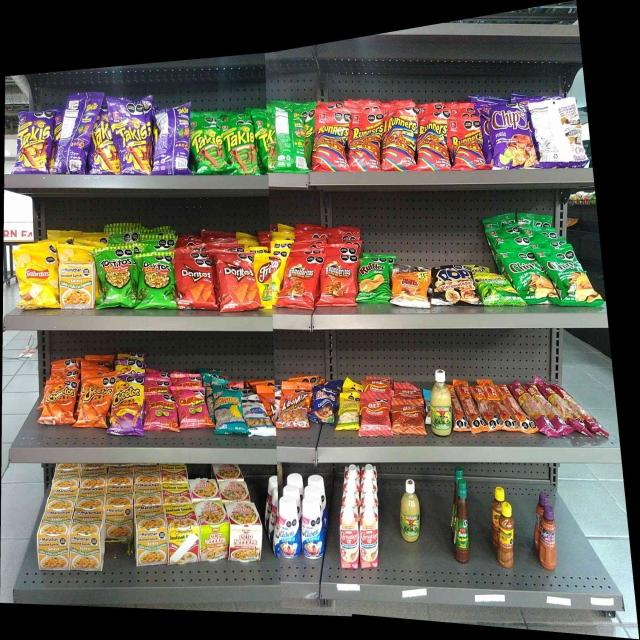bitzEnchilado90: (361, 392, 391, 437), (393, 399, 424, 434)
bitzEnchilado95: (453, 379, 509, 431)
bitzHabanero: (534, 383, 596, 438)
bokadosCacahuates: (312, 384, 336, 424)
botaneraChilito: (498, 503, 514, 568)
cheetosFlaminHot: (112, 378, 143, 434)
cheetosOriginal: (78, 379, 110, 426), (45, 381, 77, 423)
chipsFuego: (488, 107, 536, 170)
chipsJalapeno: (548, 252, 598, 308), (516, 251, 546, 305)
chipsPapatinas: (481, 273, 515, 306)
churrumais: (145, 392, 177, 431), (180, 388, 208, 426)
delPrimoSalsa: (430, 369, 451, 436), (399, 479, 419, 542)
doritosNacho: (175, 258, 215, 310), (216, 252, 253, 308)
fritosLimon: (254, 253, 283, 309)
hotNutsOriginal: (392, 264, 429, 308)
leoCacahuates: (244, 397, 271, 437)
leoMix: (281, 382, 308, 430)
maruchanPollo: (70, 508, 104, 570), (37, 508, 69, 570), (136, 506, 166, 565), (60, 264, 94, 309), (108, 485, 132, 542)
maruchanRes: (167, 505, 198, 562)
nestleCarnation: (359, 506, 378, 568), (341, 506, 358, 570)
nestleLechera: (278, 498, 301, 556), (302, 499, 324, 558)
nissinCamaron: (201, 502, 228, 558)
nissinRes: (230, 501, 261, 561)
popKarameladas: (432, 267, 478, 306)
productoAtras: (537, 102, 585, 170), (56, 92, 90, 172), (153, 110, 189, 173), (277, 108, 311, 172)
rancheritos: (286, 250, 319, 308), (321, 252, 357, 305)
rufflesQueso: (359, 254, 390, 302)
runners: (315, 109, 349, 173), (452, 116, 486, 171), (350, 113, 382, 171), (384, 114, 417, 170), (419, 114, 450, 170)
sabritasOriginal: (16, 249, 59, 306)
salsaBufalo: (456, 478, 469, 563)
semillasCalabaza: (338, 393, 359, 430)
semillasGirasol: (211, 388, 242, 434)
tajinDulce: (540, 507, 557, 570)
takisFuego: (121, 99, 151, 174), (19, 111, 50, 172), (92, 120, 119, 175)
takisOriginal: (191, 118, 226, 173), (228, 124, 259, 175), (260, 114, 276, 170)
tostitos: (95, 248, 132, 308), (134, 253, 174, 307)
